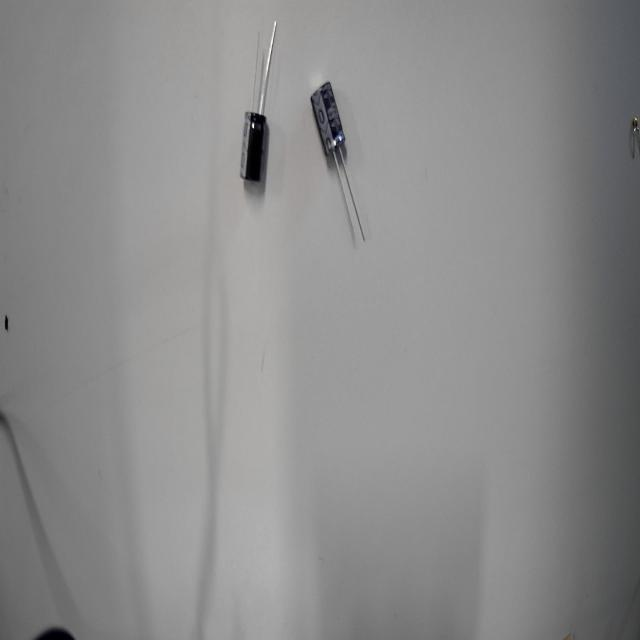capacitor_L: (289, 49, 364, 187), (213, 73, 286, 209)
